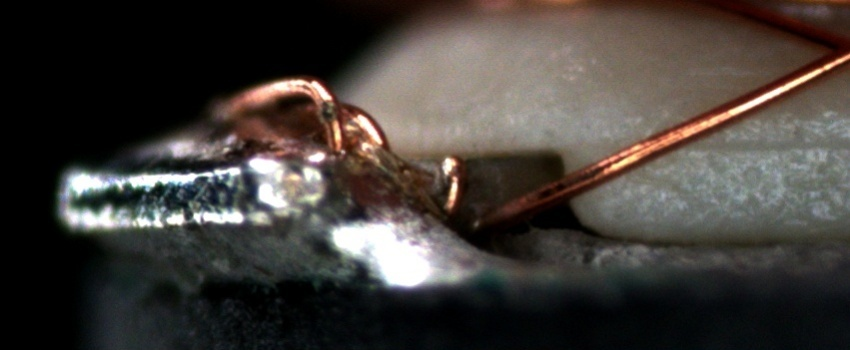CL: (798, 20, 849, 77)
DL: (667, 117, 849, 183)
TE: (212, 67, 467, 224)
